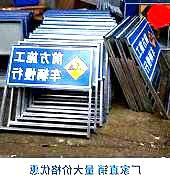sign: (9, 47, 90, 88), (137, 34, 157, 75)
